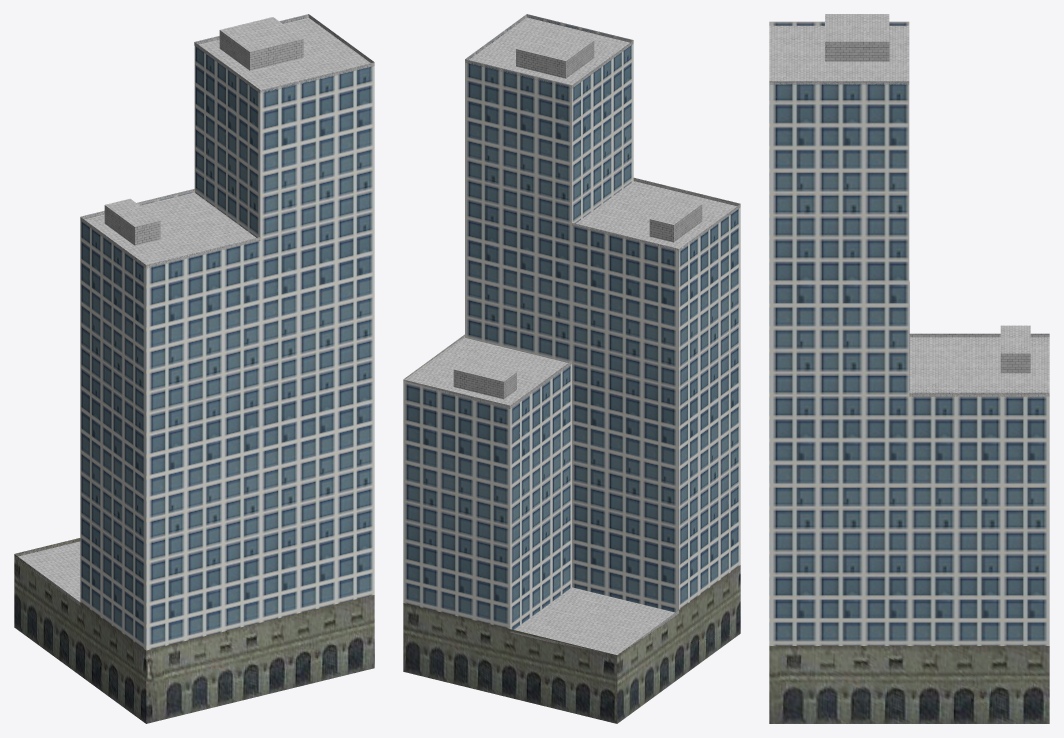
3 views of the same model, side by side, from view 1: azimuth 30°, elevation 25°; view 2: azimuth 150°, elevation 25°; view 3: azimuth 270°, elevation 25° (orthographic). The views are drawn at different scales.
Parts seen in each view (by area): view 1: Object_1, Object_2, Object_5, Object_6, Object_7, Object_3, Object_8, Object_10, Object_12; view 2: Object_1, Object_2, Object_3, Object_5, Object_4, Object_6, Object_7, Object_9, Object_8, Object_10, Object_12, Object_13; view 3: Object_1, Object_2, Object_4, Object_6, Object_7, Object_9, Object_13, Object_10.
Part boxes in pixels (bbox=[...]): Object_1: bbox=[80, 14, 374, 650]; Object_2: bbox=[14, 538, 374, 723]; Object_5: bbox=[84, 192, 255, 264]; Object_6: bbox=[199, 17, 370, 89]; Object_7: bbox=[219, 17, 303, 70]; Object_3: bbox=[18, 541, 80, 601]; Object_8: bbox=[104, 198, 160, 245]; Object_10: bbox=[194, 14, 374, 93]; Object_12: bbox=[80, 189, 260, 268]; Object_1: bbox=[403, 14, 740, 629]; Object_2: bbox=[403, 565, 740, 723]; Object_3: bbox=[514, 587, 674, 654]; Object_5: bbox=[576, 181, 736, 248]; Object_4: bbox=[407, 338, 567, 405]; Object_6: bbox=[469, 17, 629, 85]; Object_7: bbox=[516, 28, 594, 78]; Object_9: bbox=[453, 360, 516, 399]; Object_8: bbox=[649, 198, 702, 242]; Object_10: bbox=[465, 14, 633, 88]; Object_12: bbox=[572, 178, 740, 251]; Object_13: bbox=[403, 334, 571, 408]; Object_1: bbox=[769, 21, 1049, 645]; Object_2: bbox=[769, 646, 1049, 723]; Object_4: bbox=[909, 337, 1049, 392]; Object_6: bbox=[769, 25, 909, 80]; Object_7: bbox=[825, 14, 889, 61]; Object_9: bbox=[1000, 325, 1030, 373]; Object_13: bbox=[909, 333, 1049, 396]; Object_10: bbox=[769, 81, 909, 84].
Size of the model in its own units: 1283 by 1283 by 3328.
Materials: 13 (13 with a texture image).
